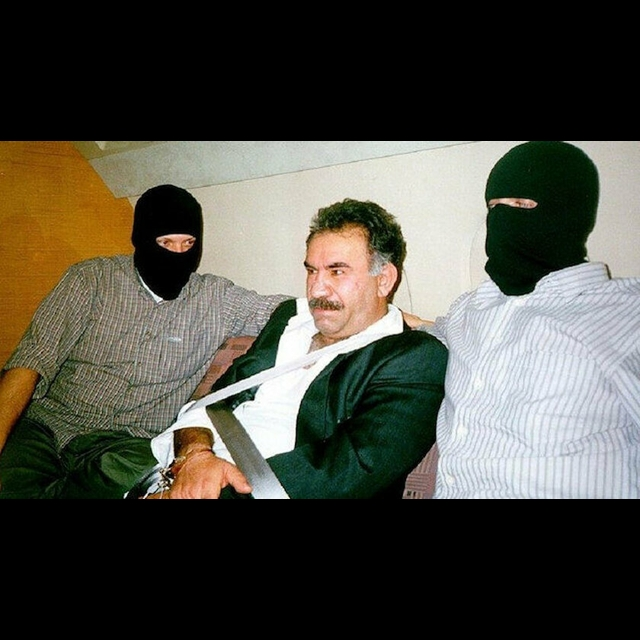APO: (293, 207, 402, 356)
